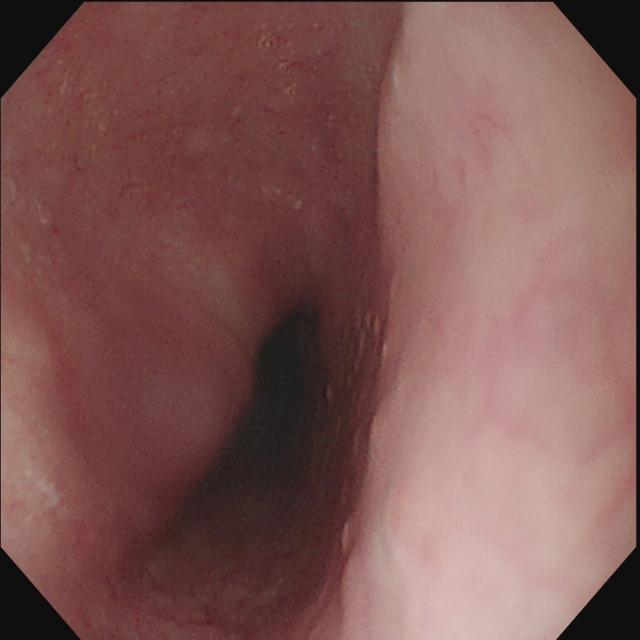E: (256, 315, 315, 469)
J: (14, 469, 71, 526)
